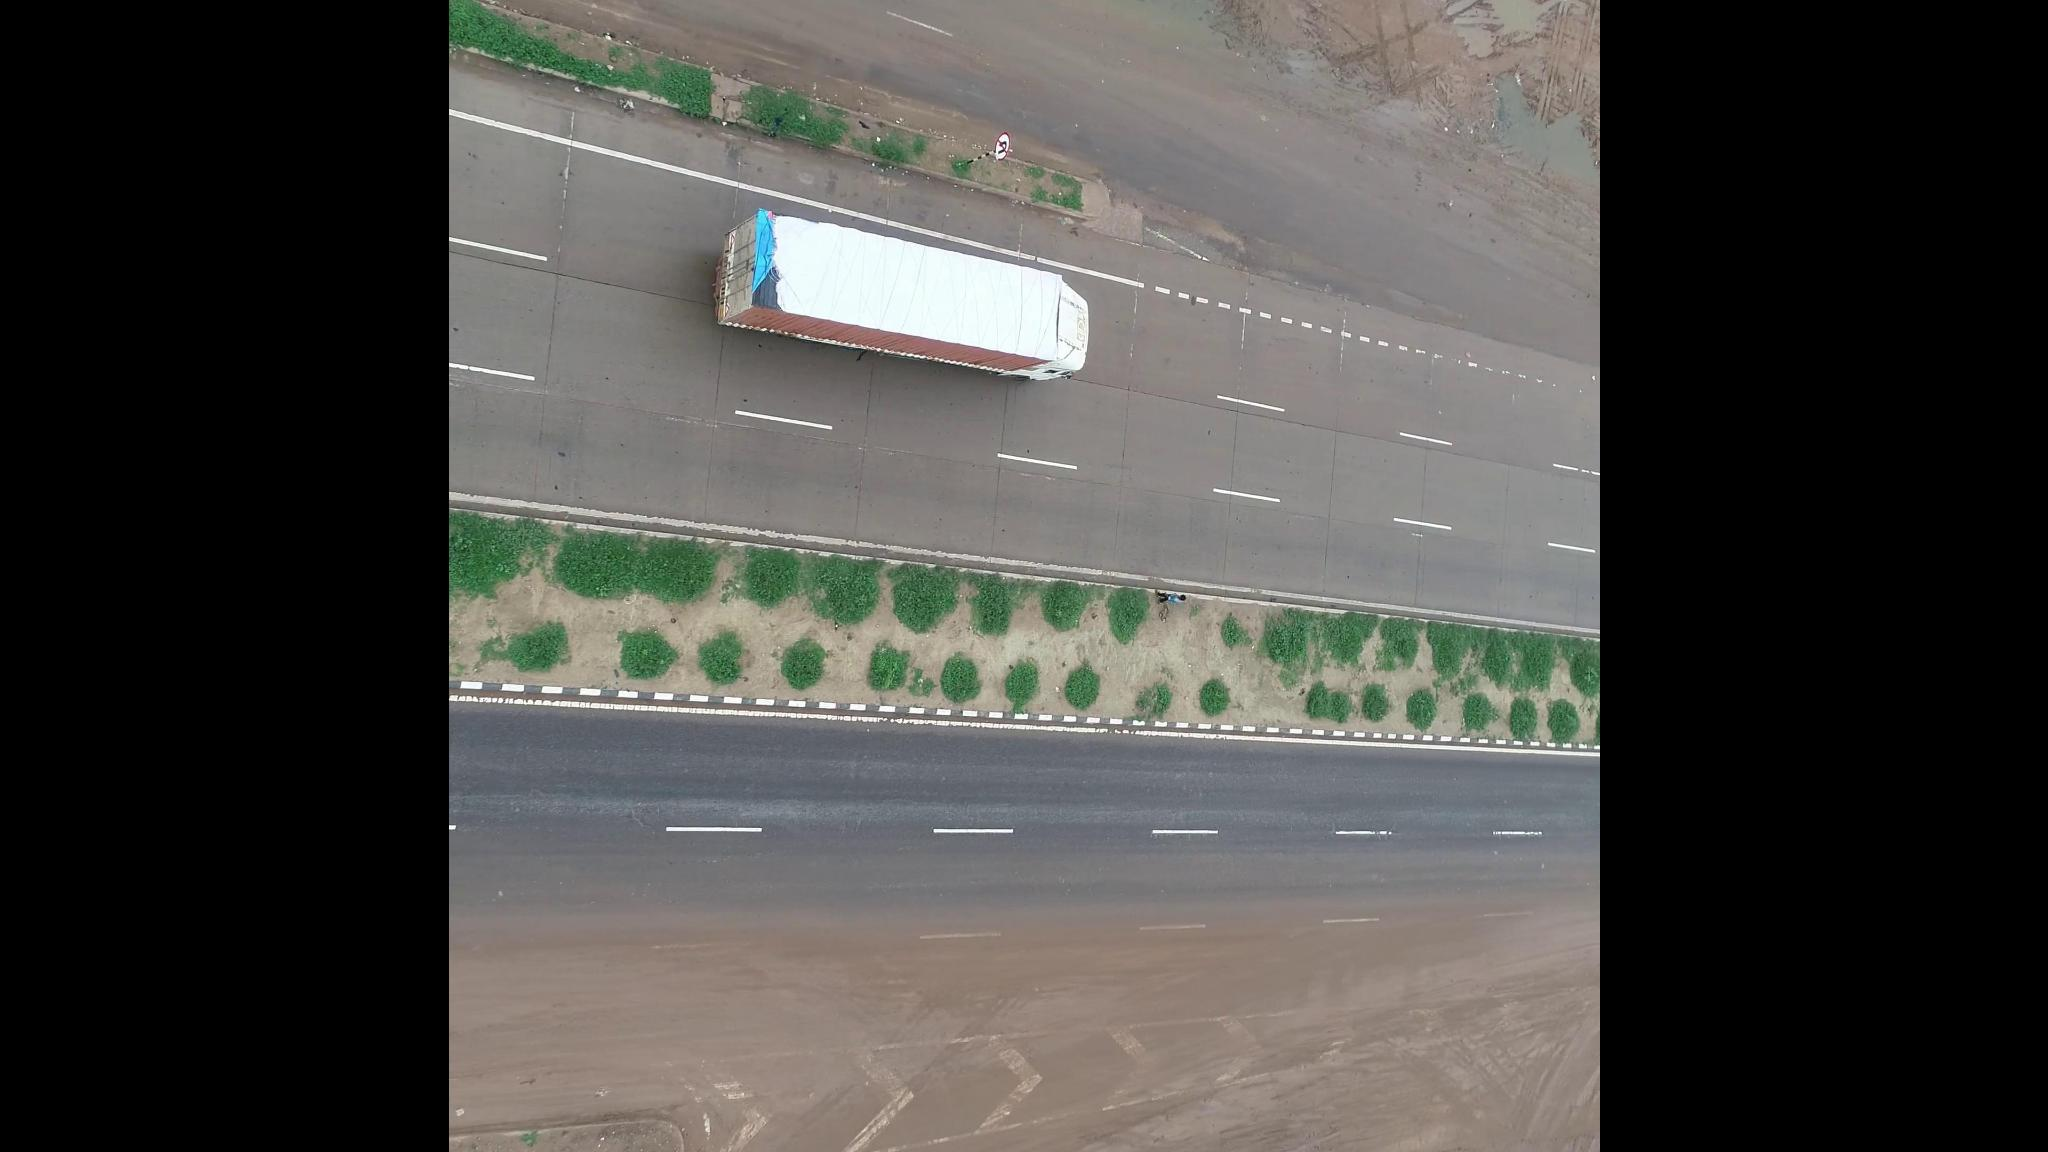Muddy_road: (452, 911, 1120, 1138), (1122, 902, 1566, 1118)
